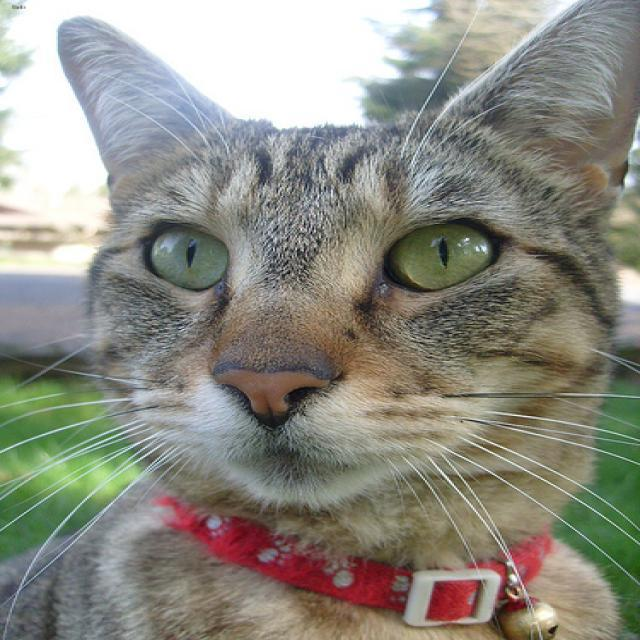Egyptian_Mau: (55, 0, 638, 503)
